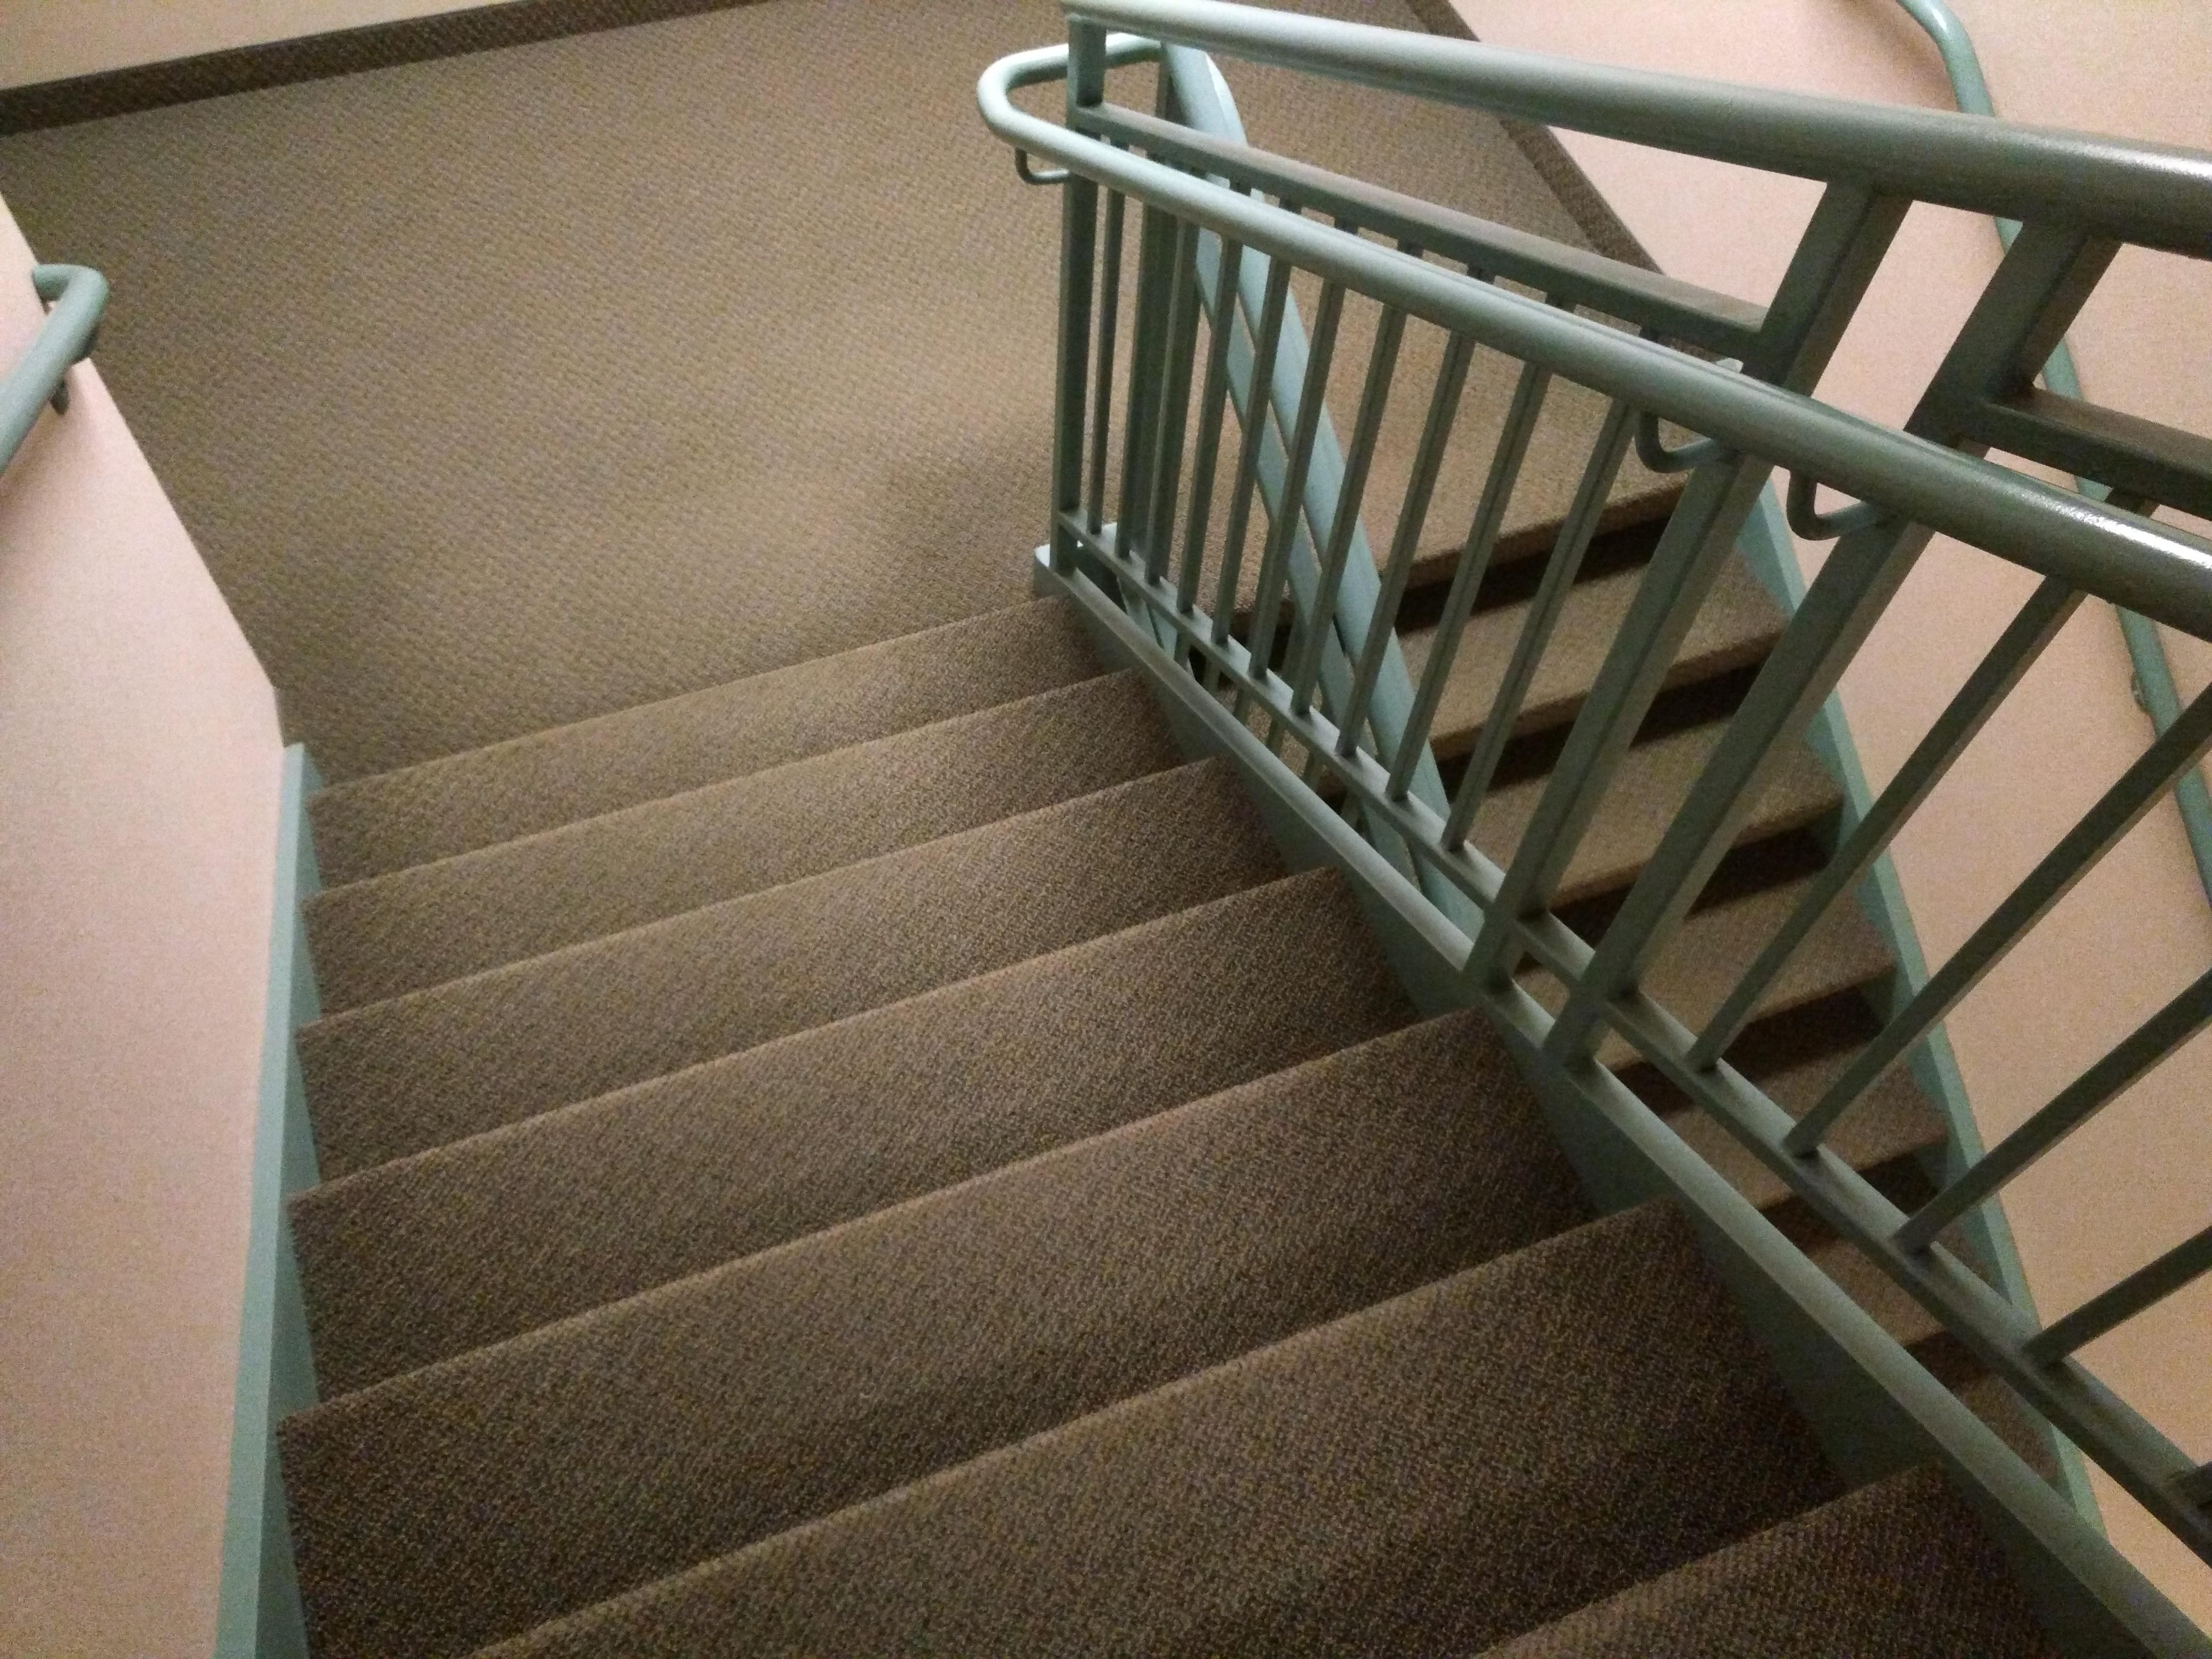stairs_down: (247, 559, 2040, 1659)
